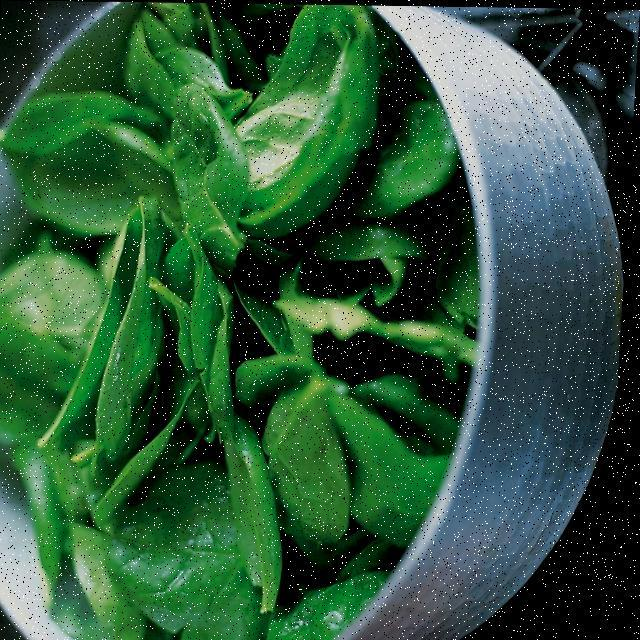Spinach: (0, 0, 514, 640)
